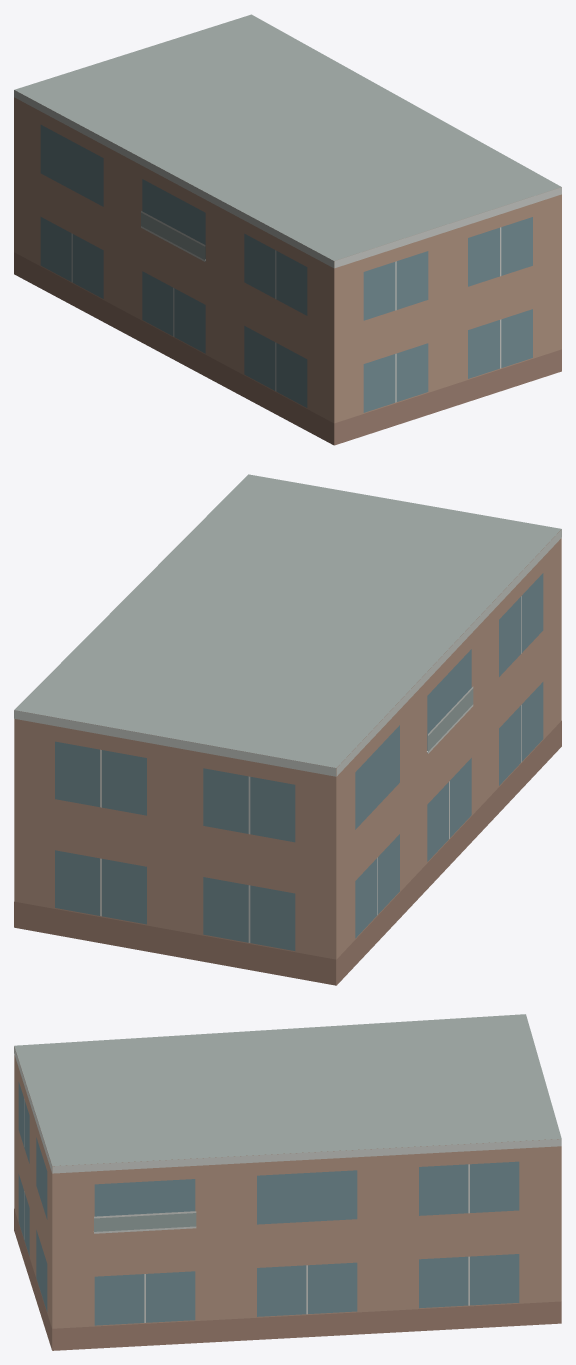
File: survey-upis-32601358.glb
3 views of the same model, one above another, from view 1: azimuth 30°, elevation 25°; view 2: azimuth 150°, elevation 25°; view 3: azimuth 270°, elevation 25° (orthographic). The views are drawn at different scales.
Parts seen in each view (by area): view 1: survey-upis-32601358.tmp; view 2: survey-upis-32601358.tmp; view 3: survey-upis-32601358.tmp.
Boxes of the visible parts, left/top/right/bottom form: survey-upis-32601358.tmp: left=14, top=14, right=561, bottom=445; survey-upis-32601358.tmp: left=14, top=474, right=561, bottom=985; survey-upis-32601358.tmp: left=14, top=1014, right=561, bottom=1350.
Bounding box in the file's own units: 10.79 × 6.1 × 16.41.
